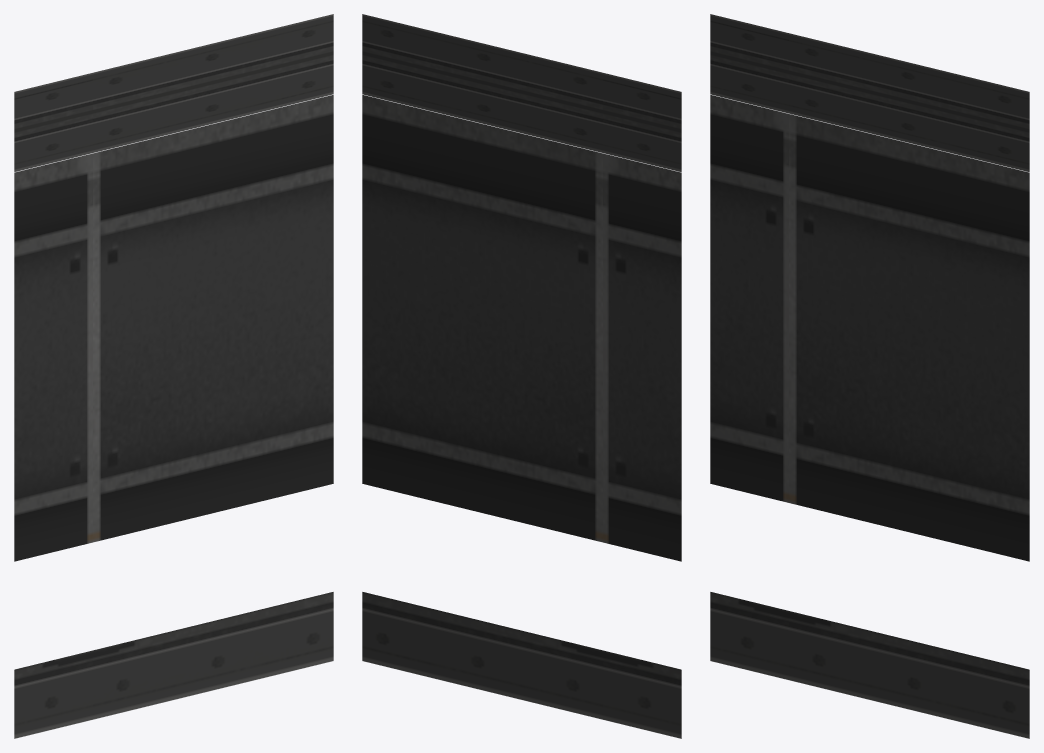
File: Interior3.fbx
3 views of the same model, side by side, from view 1: azimuth 30°, elevation 25°; view 2: azimuth 150°, elevation 25°; view 3: azimuth 330°, elevation 25° (orthographic).
Visible parts, largest first — view 1: Plane.006; view 2: Plane.006; view 3: Plane.006.
Part boxes in pixels (x1,y1,x2,y2): Plane.006: (14,14,333,738); Plane.006: (362,14,681,738); Plane.006: (710,14,1029,738).
Size of the model in its own units: 103 by 200 by 3.26e-05.
